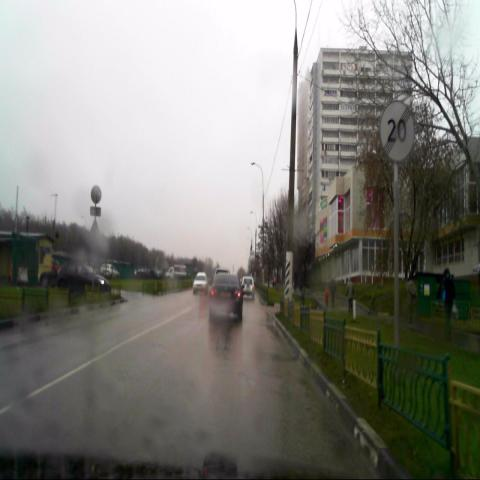3_25: (379, 102, 414, 161)
